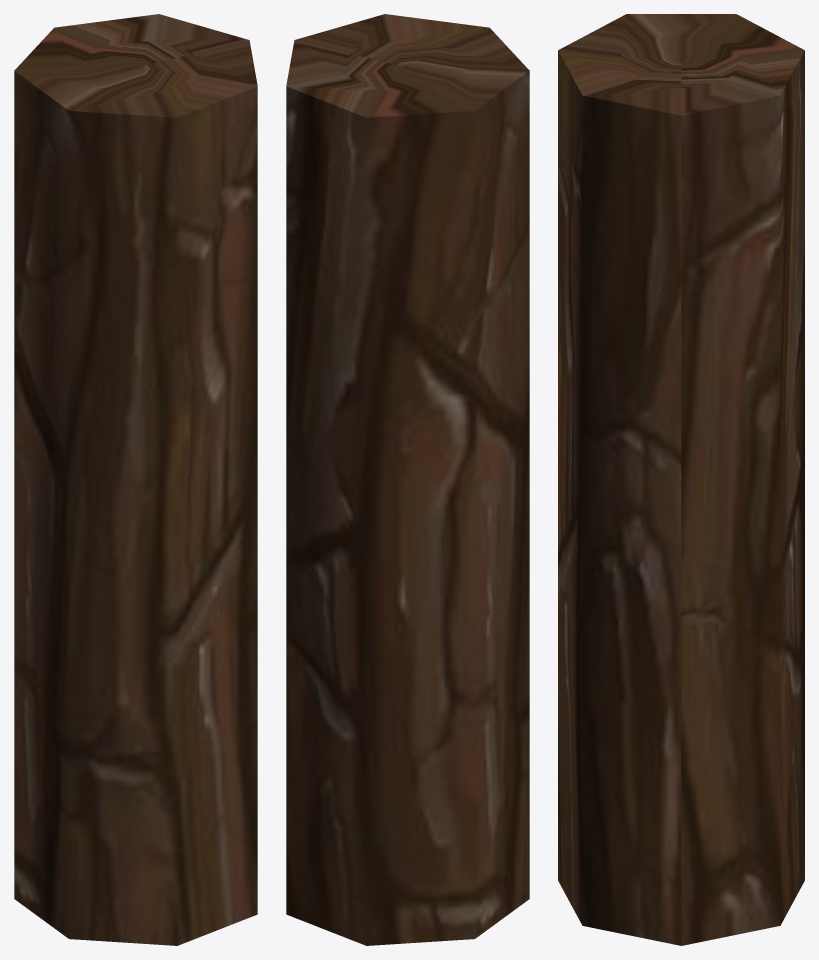
Rendered from FireLog.FBX.
The picture shows the model from 3 angles, left to right: view 1: azimuth 30°, elevation 25°; view 2: azimuth 150°, elevation 25°; view 3: azimuth 270°, elevation 25°; orthographic projection.
Visible parts, largest first — view 1: Cylinder011; view 2: Cylinder011; view 3: Cylinder011.
Part boxes in pixels (<box>): Cylinder011: <box>14,14,257,945</box>; Cylinder011: <box>286,14,529,945</box>; Cylinder011: <box>558,14,804,945</box>.
Bounding box in the file's own units: 0.3043 × 1.16 × 0.3121.
Materials: 1 (1 with a texture image).
